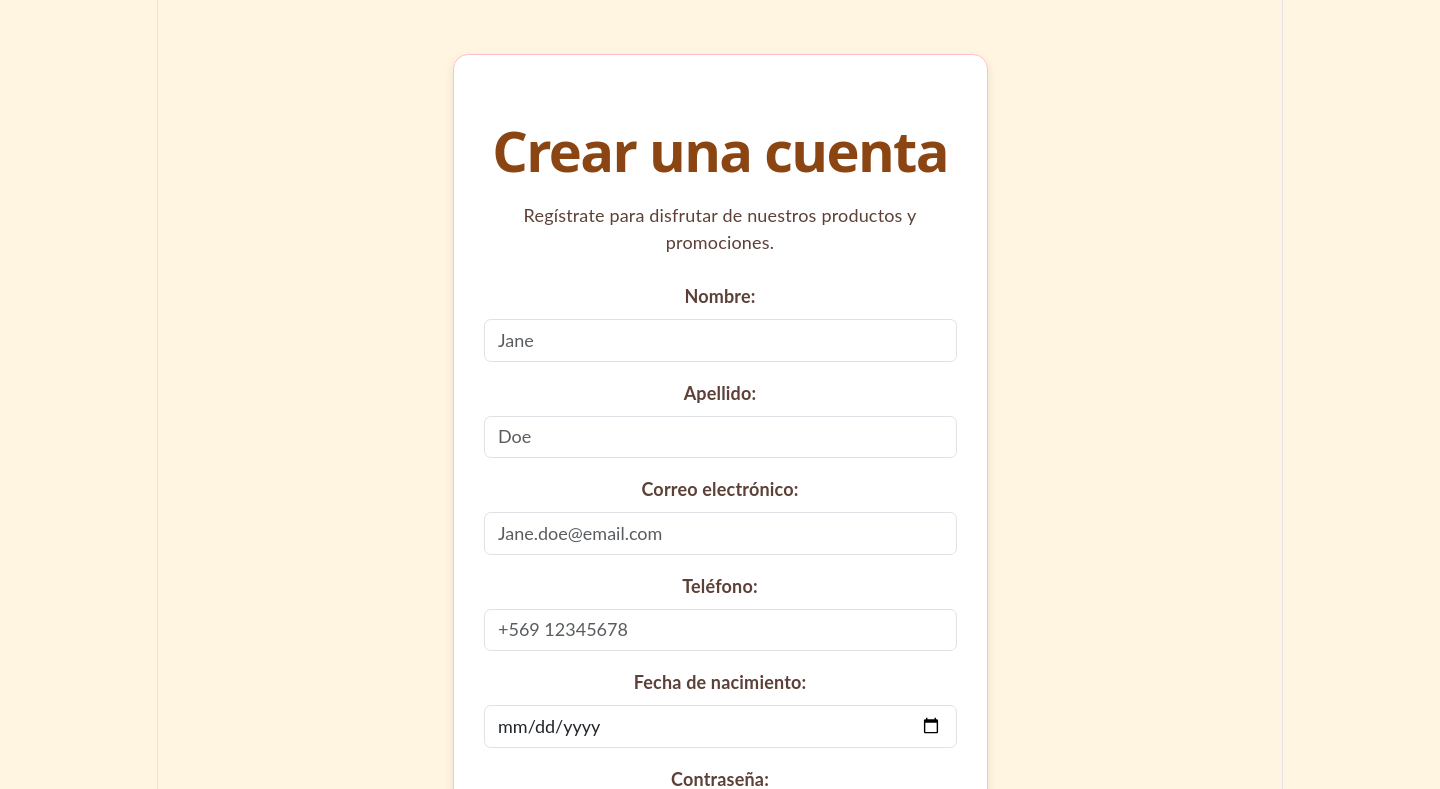
Test: Formulario de registro › impide registrar dos veces el mismo correo
This screenshot has width=1440, height=789.
In the field labelled "Nombre:": (720, 340) top-left (484, 319), bottom-right (956, 362), type "Ana María"
In the field labelled "Apellido:": (720, 437) top-left (484, 416), bottom-right (956, 458), type "Pérez"
In the field labelled "Correo electrónico:": (720, 533) top-left (484, 512), bottom-right (956, 555), type "ana@example.com"
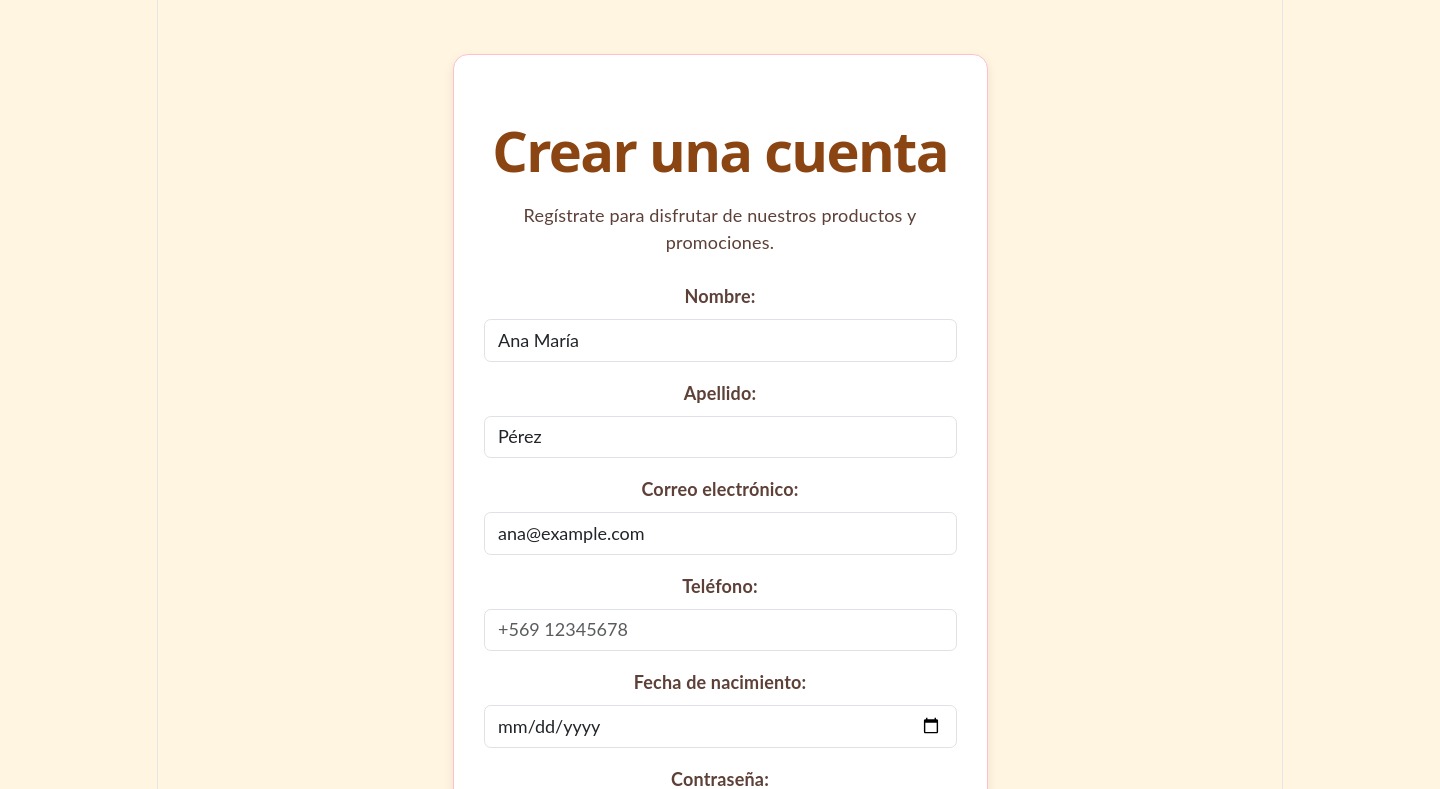
In the field labelled "Teléfono:": (720, 630) top-left (484, 609), bottom-right (956, 651), type "+56912345678"
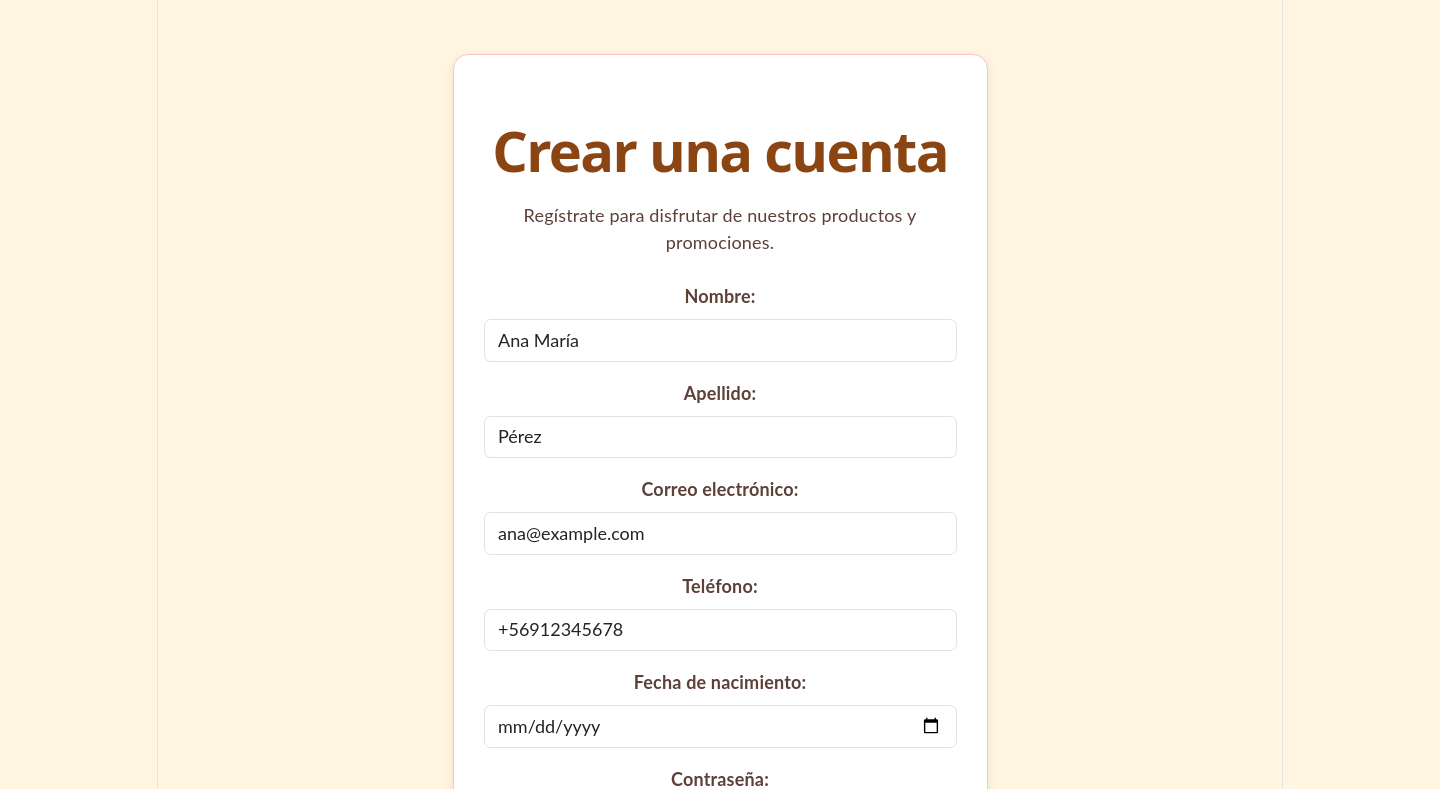
In the date field labelled "Fecha de nacimiento:": (720, 726) top-left (484, 705), bottom-right (956, 748), type "2000-05-10"
(page scrolled)
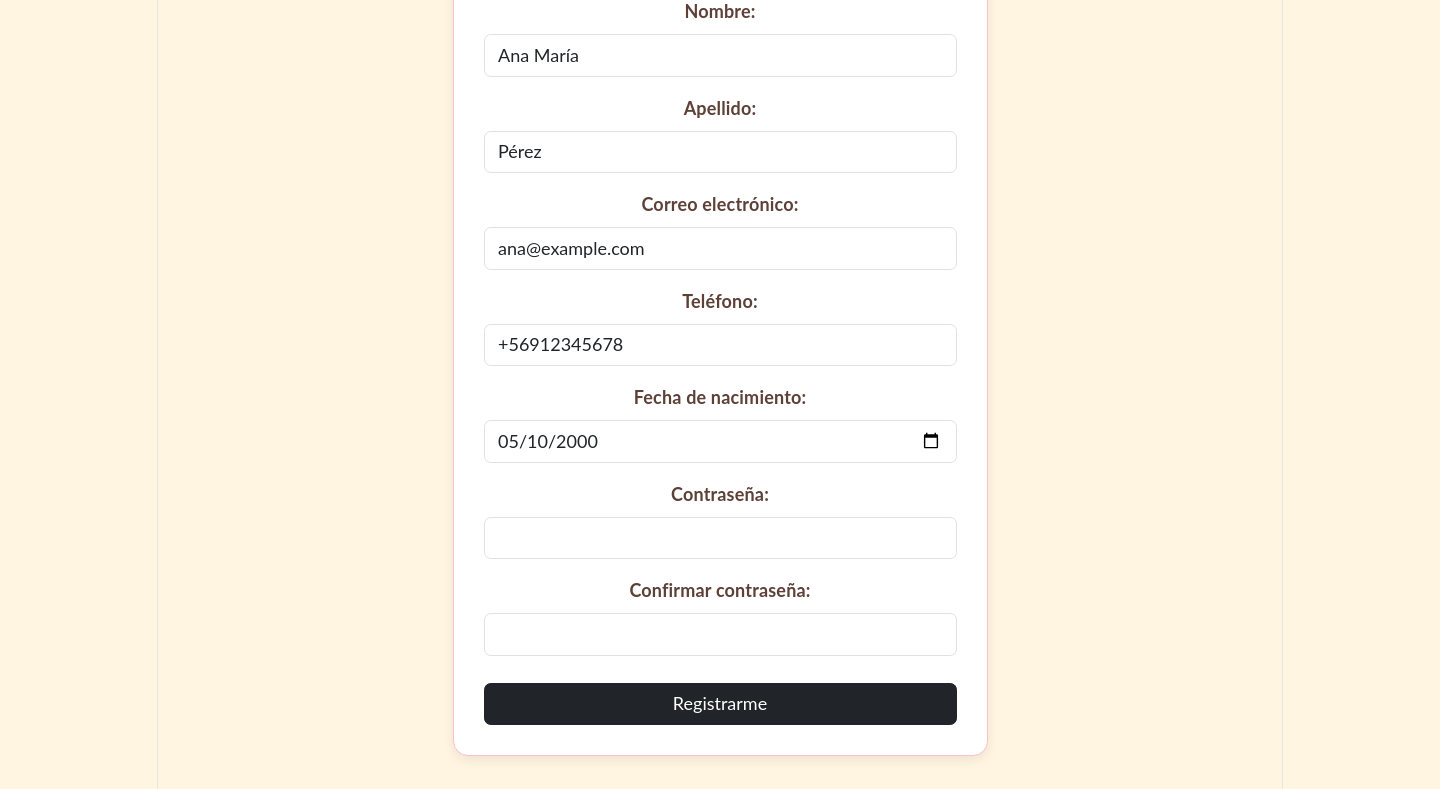
In the password field labelled "Contraseña:": (720, 538) top-left (484, 517), bottom-right (956, 559), type "clave123"
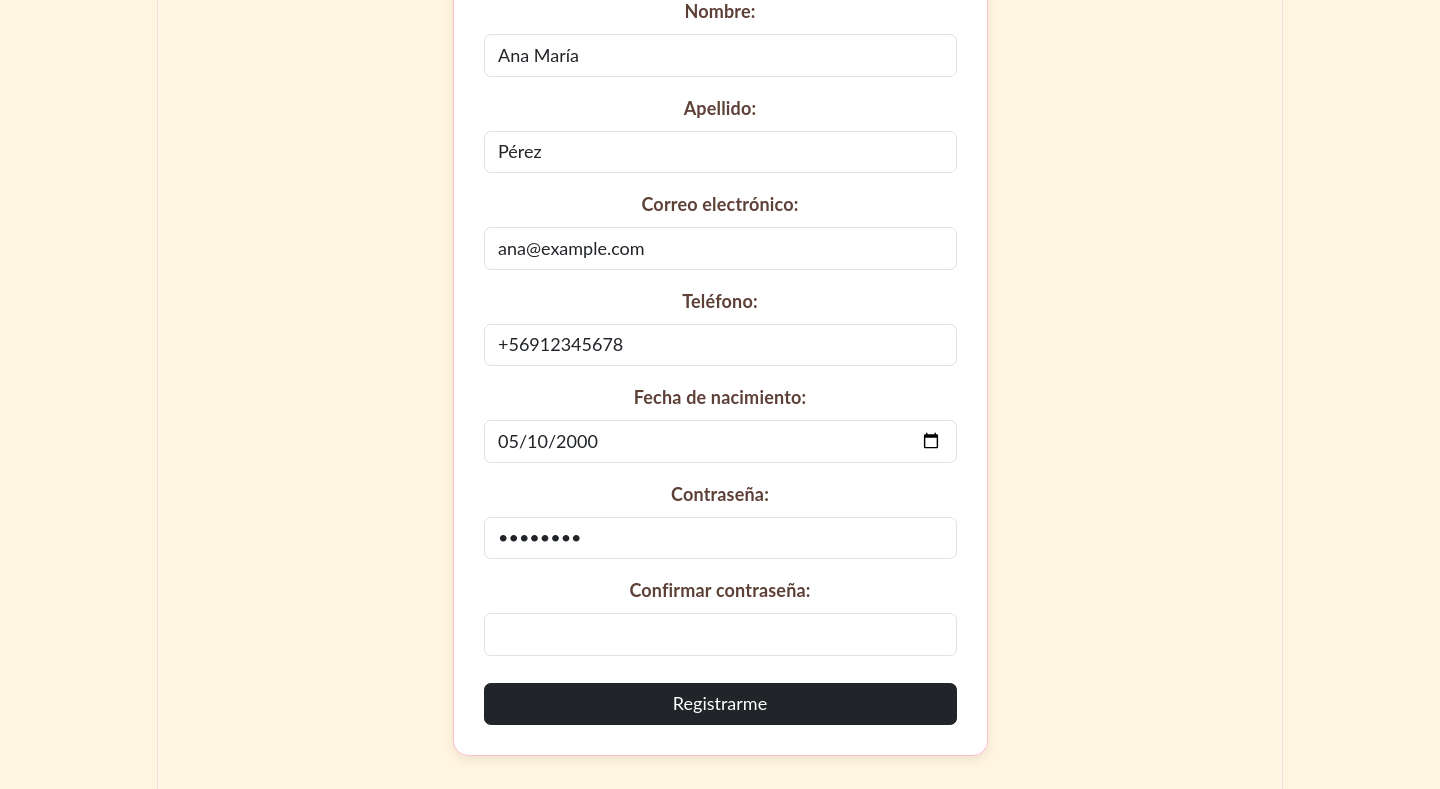
In the password field labelled "Confirmar contraseña:": (720, 634) top-left (484, 613), bottom-right (956, 656), type "clave123"
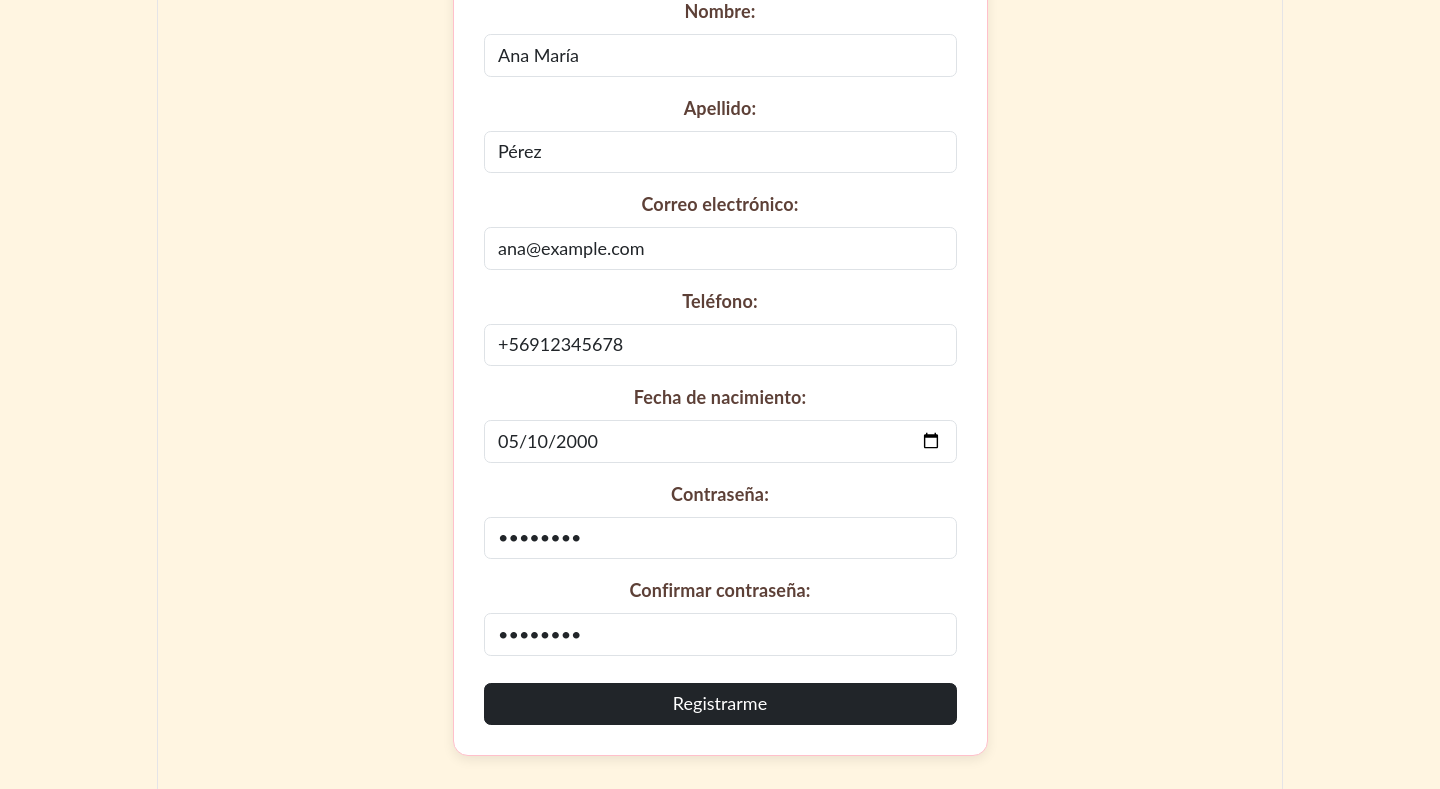
Click the button "Registrarme": click(720, 704) top-left (484, 683), bottom-right (956, 725)
(page scrolled)
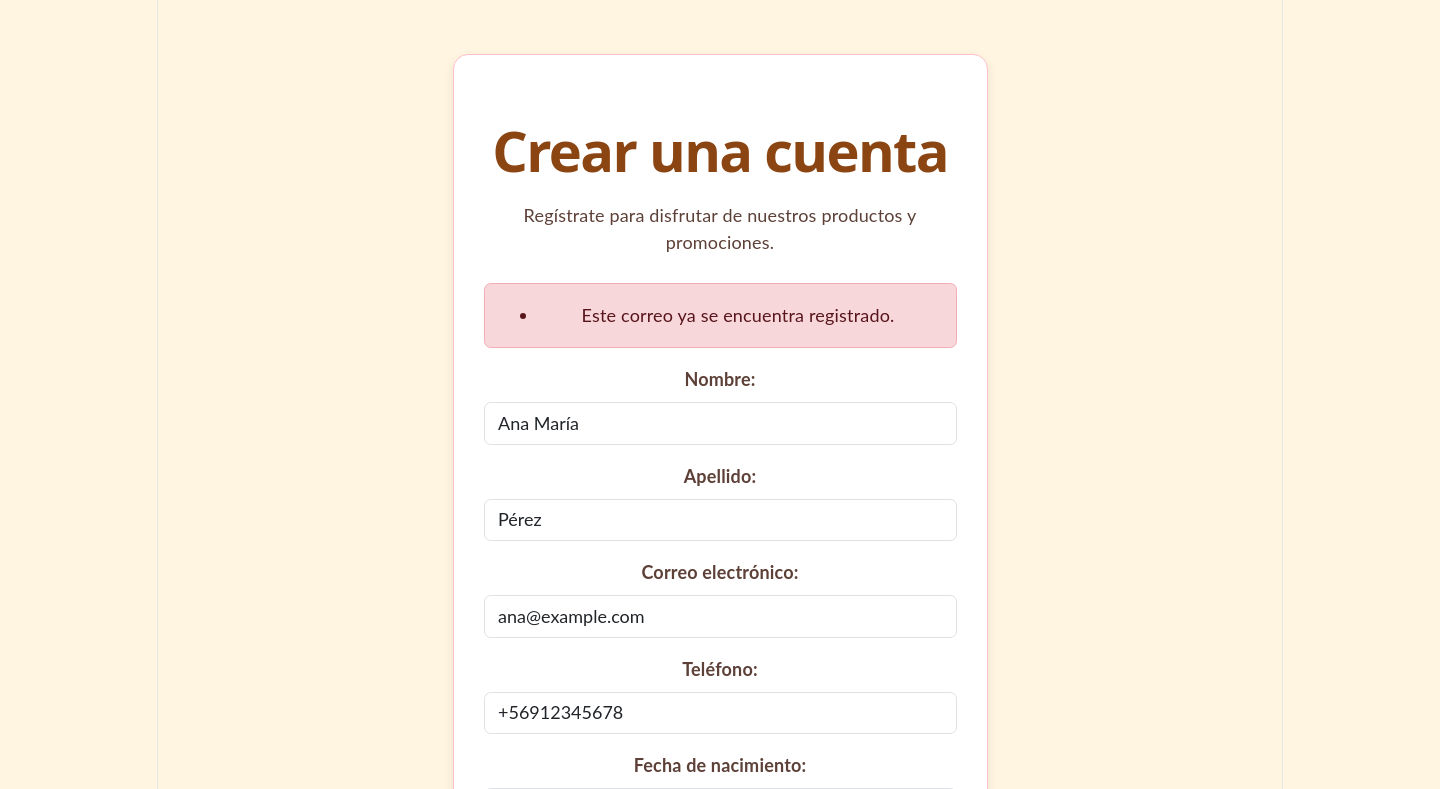
Check: the list item "Este correo ya se encuentra registrado." is shown, box top-left (582, 304), bottom-right (894, 326)
